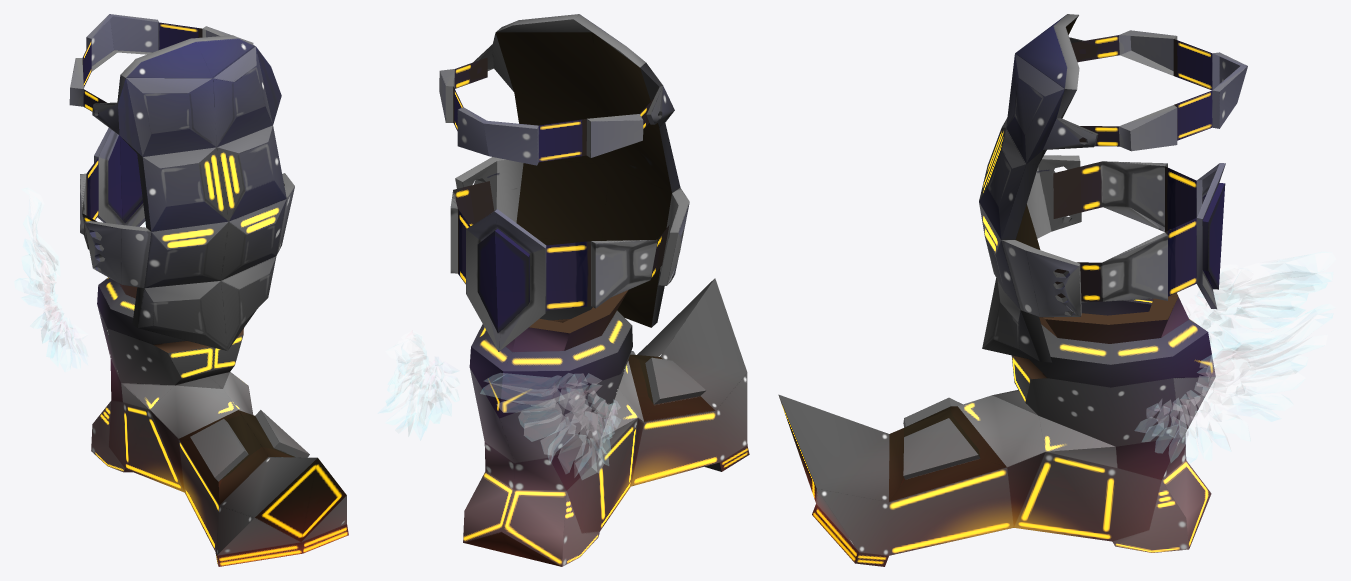
File: wing_shoe.glb
The picture shows the model from 3 angles, left to right: view 1: azimuth 30°, elevation 25°; view 2: azimuth 150°, elevation 25°; view 3: azimuth 270°, elevation 25°; orthographic projection. The views are drawn at different scales.
Parts seen in each view (by area): view 1: shoe.001, Plane.025; view 2: shoe.001, Plane.025, Plane.024; view 3: shoe.001, Plane.024, Plane.025.
Part boxes in pixels (left/top/right/bottom): shoe.001: left=69, top=14, right=348, bottom=566; Plane.025: left=14, top=188, right=87, bottom=371; shoe.001: left=439, top=14, right=749, bottom=566; Plane.025: left=480, top=373, right=620, bottom=479; Plane.024: left=378, top=330, right=459, bottom=440; shoe.001: left=778, top=14, right=1247, bottom=566; Plane.024: left=1135, top=304, right=1335, bottom=463; Plane.025: left=1183, top=252, right=1335, bottom=358.
Bounding box in the file's own units: 1.04 × 2.25 × 2.23.
2 materials, 2 textured.
